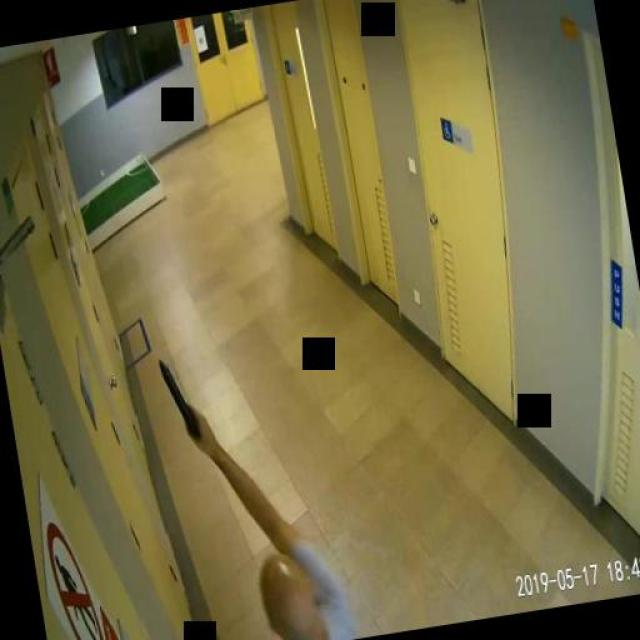gun: (158, 352, 208, 450)
